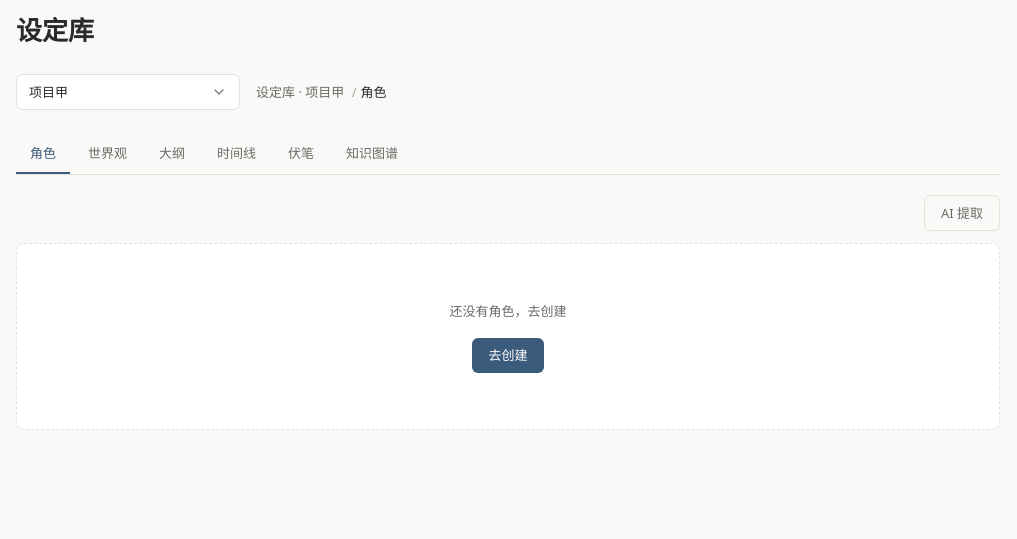
#378 地图工作台目录树 + 拖拽层级（世界观 tab，issue #378） › T2 拖拽到另一节点 → PATCH body {parent_map_id: 目标 id} → 树重排
What coordinates should you click on to do the following:
click the tab "世界观"
I would click on:
 (108, 154)
Its box is [74, 134, 141, 174].
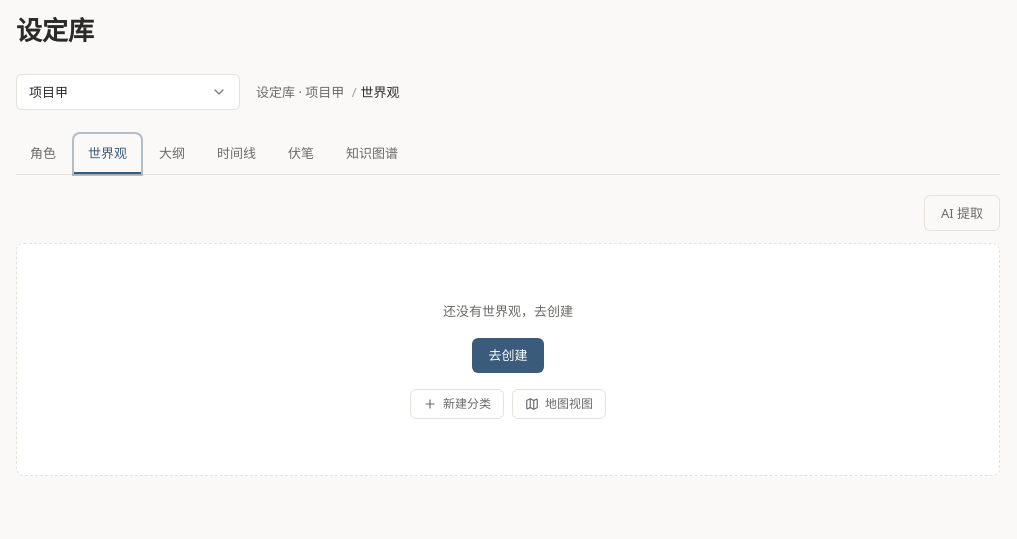
Check: the button with test id "map-view-entry" is shown
What coordinates should you click on to do the following:
click the button with test id "map-view-entry"
I would click on:
 (559, 404)
Its box is [512, 389, 606, 419].
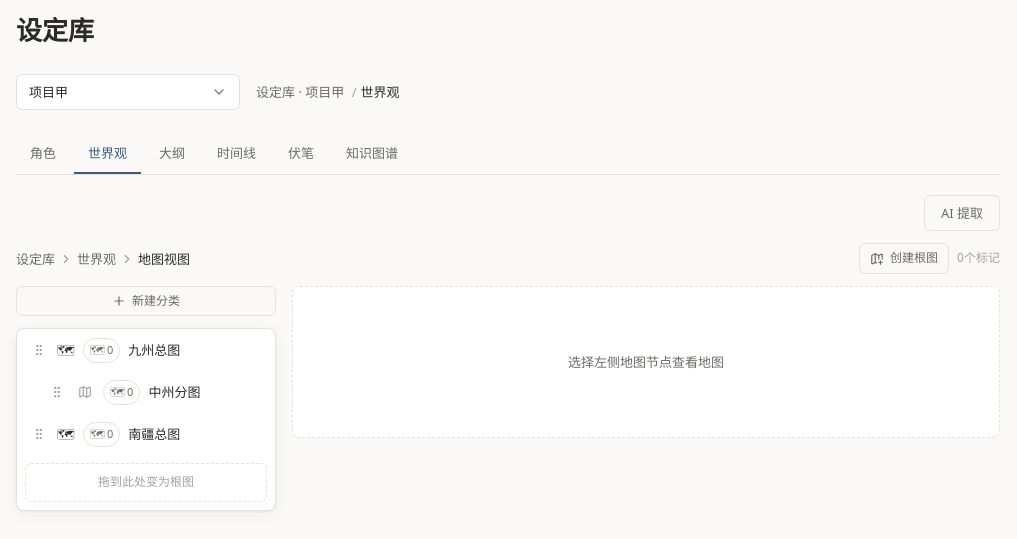
Check: the element with test id "map-workbench" is shown, box [16, 243, 1000, 523]
